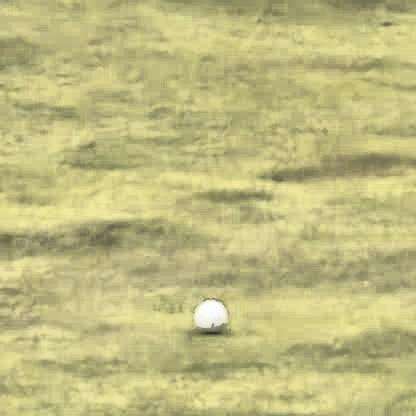golfball: (192, 296, 222, 329)
